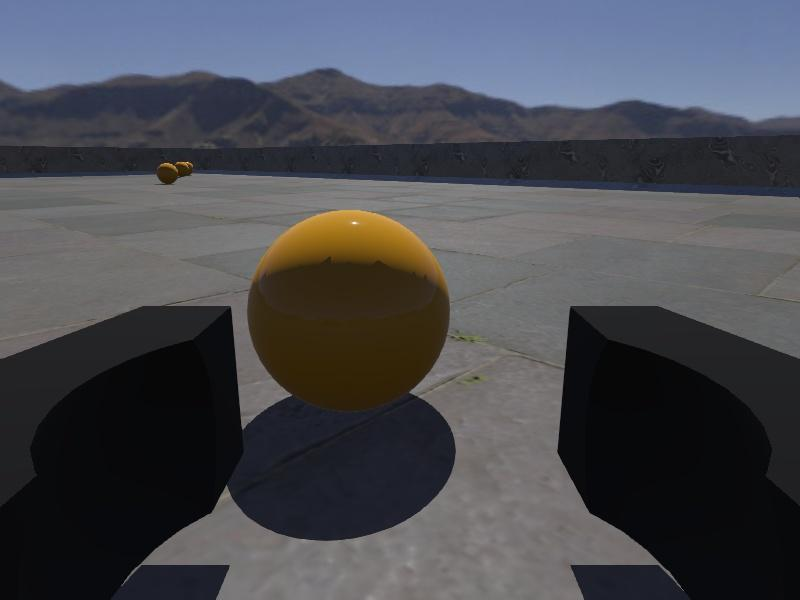orange ball: (246, 210, 452, 414), (155, 162, 179, 186)
